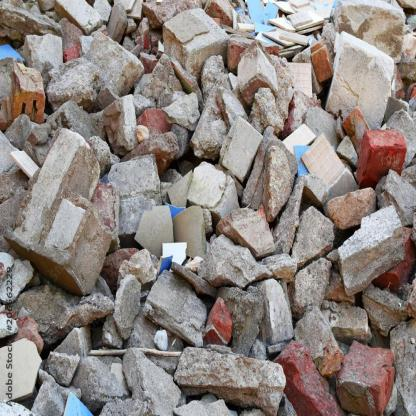brick: (1, 1, 416, 415)
